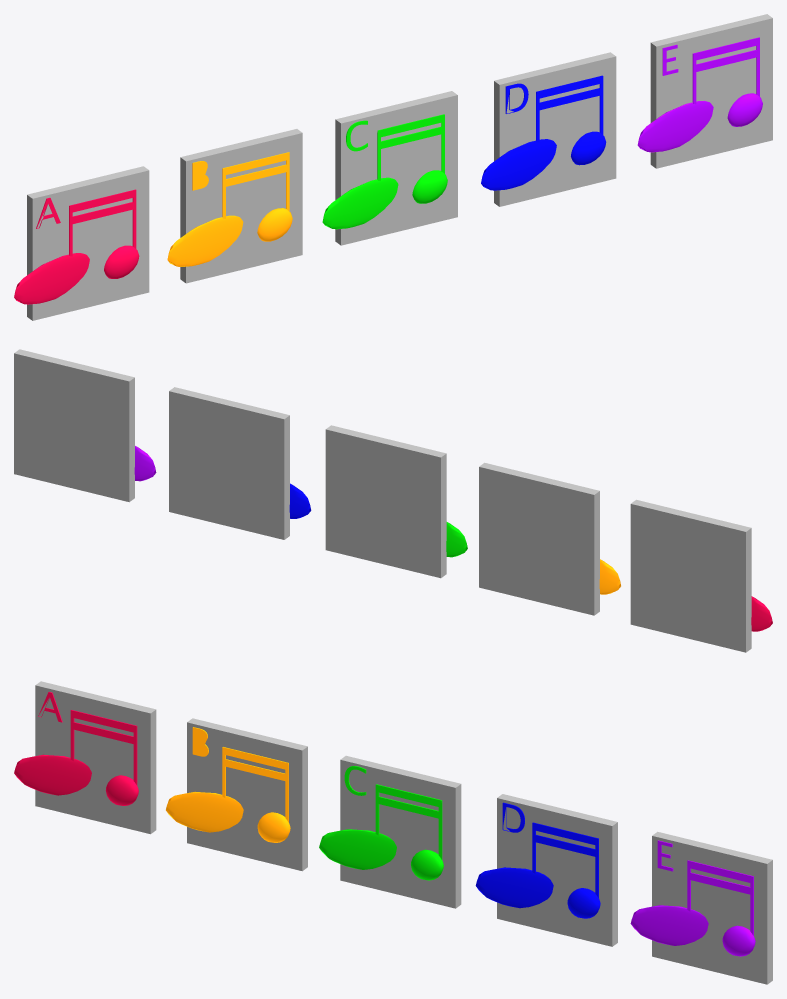
File: notes.fbx
3 views of the same model, one above another, from view 1: azimuth 30°, elevation 25°; view 2: azimuth 150°, elevation 25°; view 3: azimuth 330°, elevation 25° (orthographic).
Parts seen in each view (by area): view 1: pasted__Button (×4), B, pasted__pSphere1 (×5), pasted__pasted__pSphere1 (×4), pSphere1, pasted__pasted__pasted__pCube2 (×4), pasted__pasted__pasted__pasted__pCube2 (×3), pasted__pasted__pCube2; view 2: pasted__Button (×4), B, pasted__pSphere1 (×4), pSphere1; view 3: pasted__Button (×4), B, pasted__pSphere1 (×5), pasted__pasted__pSphere1 (×4), pasted__pasted__pasted__pCube2 (×5), pSphere1, pasted__pasted__pasted__pasted__pCube2 (×4), pasted__pasted__pCube2.
Part boxes in pixels (x1,y1,x2,y2): pasted__Button (×4): [27, 14, 772, 320]; B: [180, 129, 302, 283]; pasted__pSphere1 (×5): [14, 101, 713, 304]; pasted__pasted__pSphere1 (×4): [104, 93, 762, 278]; pSphere1: [167, 215, 243, 266]; pasted__pasted__pasted__pCube2 (×4): [69, 37, 759, 212]; pasted__pasted__pasted__pasted__pCube2 (×3): [69, 50, 759, 224]; pasted__pasted__pCube2: [222, 152, 289, 174]; pasted__Button (×4): [14, 349, 751, 652]; B: [479, 462, 599, 615]; pasted__pSphere1 (×4): [134, 446, 772, 631]; pSphere1: [599, 559, 620, 594]; pasted__Button (×4): [35, 681, 772, 984]; B: [187, 718, 307, 871]; pasted__pSphere1 (×5): [14, 754, 708, 945]; pasted__pasted__pSphere1 (×4): [105, 775, 755, 956]; pasted__pasted__pasted__pCube2 (×5): [70, 710, 753, 883]; pSphere1: [166, 791, 243, 832]; pasted__pasted__pasted__pasted__pCube2 (×4): [70, 722, 753, 895]; pasted__pasted__pCube2: [222, 747, 288, 769].
Size of the model in its own units: 456 by 70 by 10.54.
